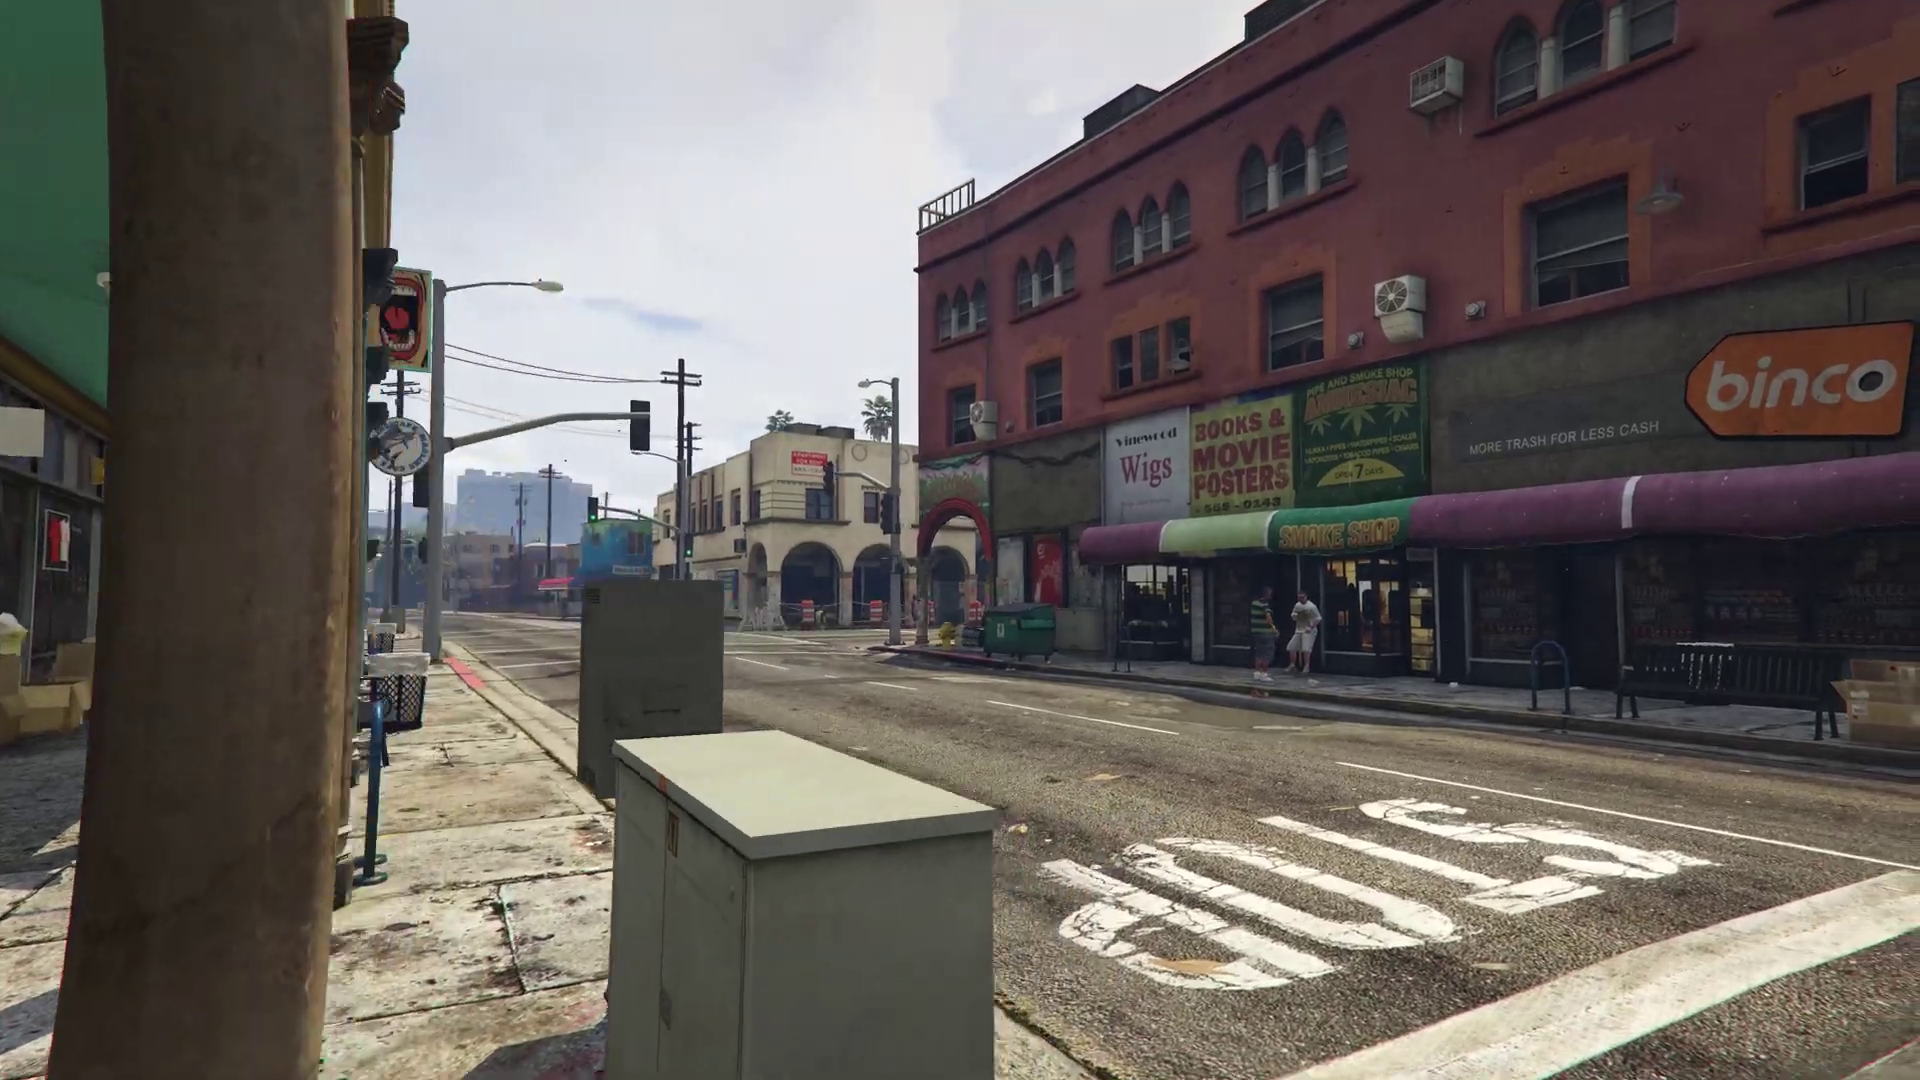person: (1248, 586, 1279, 685), (1286, 592, 1323, 675)
traffic light: (630, 400, 649, 454), (880, 495, 896, 532), (878, 554, 894, 576), (823, 462, 834, 495), (682, 532, 694, 557), (587, 497, 598, 522)
